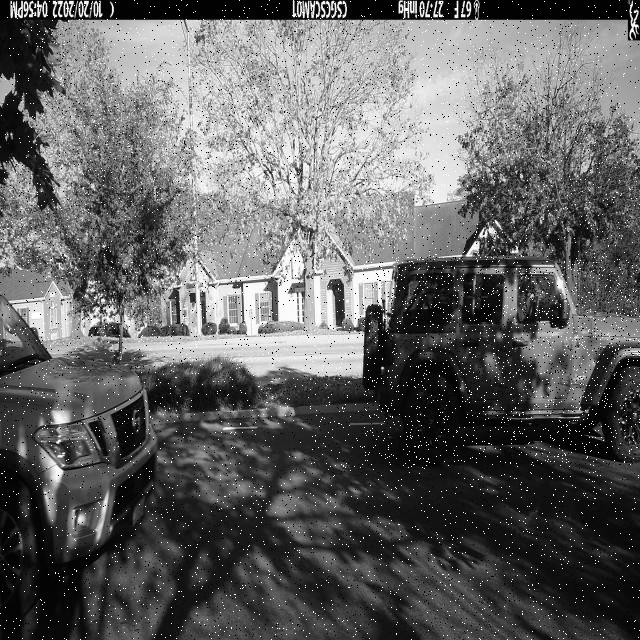SUV: (363, 256, 640, 466)
